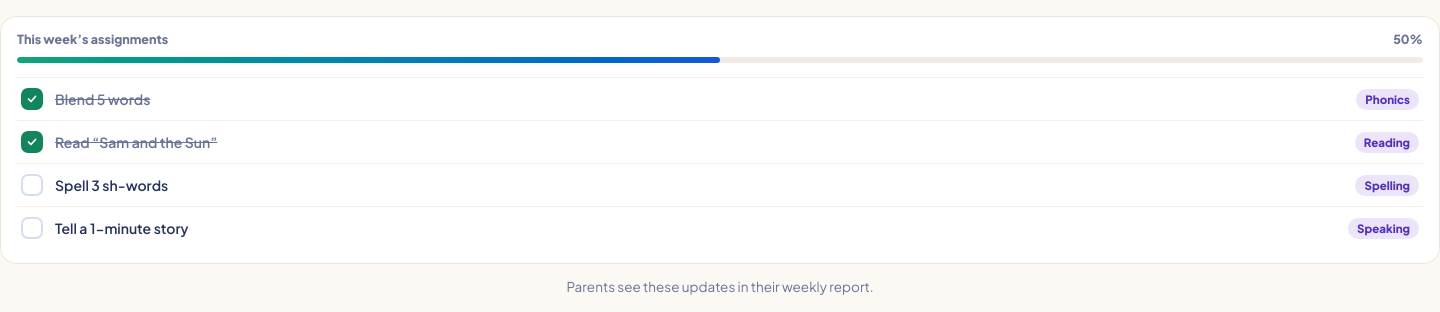
Scenario: WeeklyAssignments › reaches 100% and the all-done message once every item is ticked
Click the button "Spell 3 sh-words Spelling": (112, 185) [17,163,1423,206]
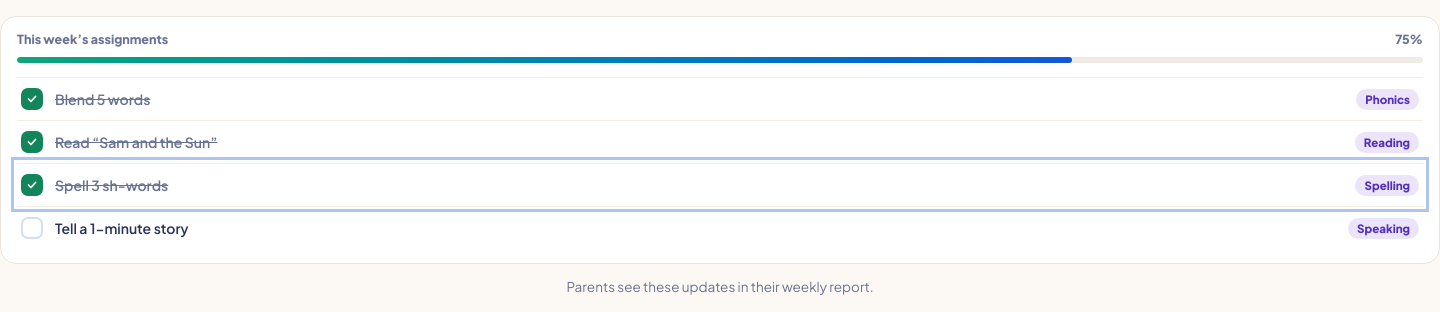
Click the button "Tell a 1-minute story Speaking": (122, 228) [17,206,1423,249]
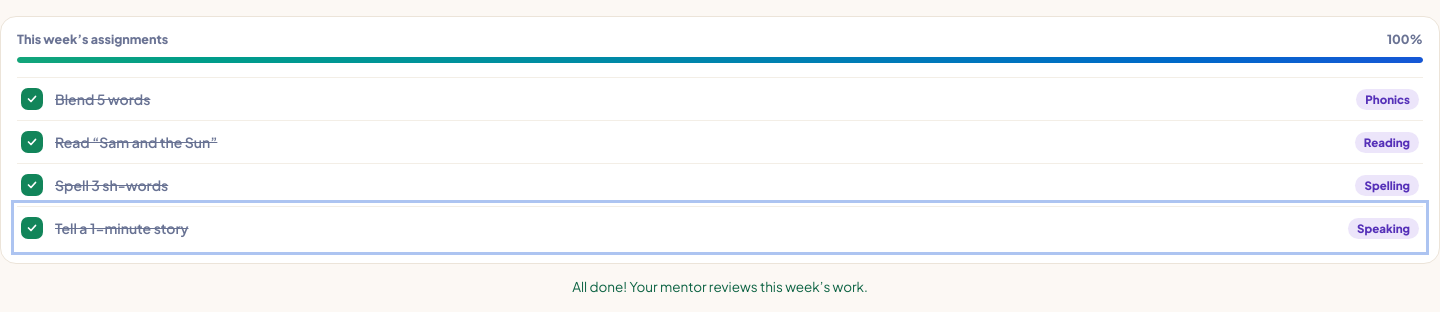
expect the text "100%" is shown: met, box [1387,31,1423,47]
